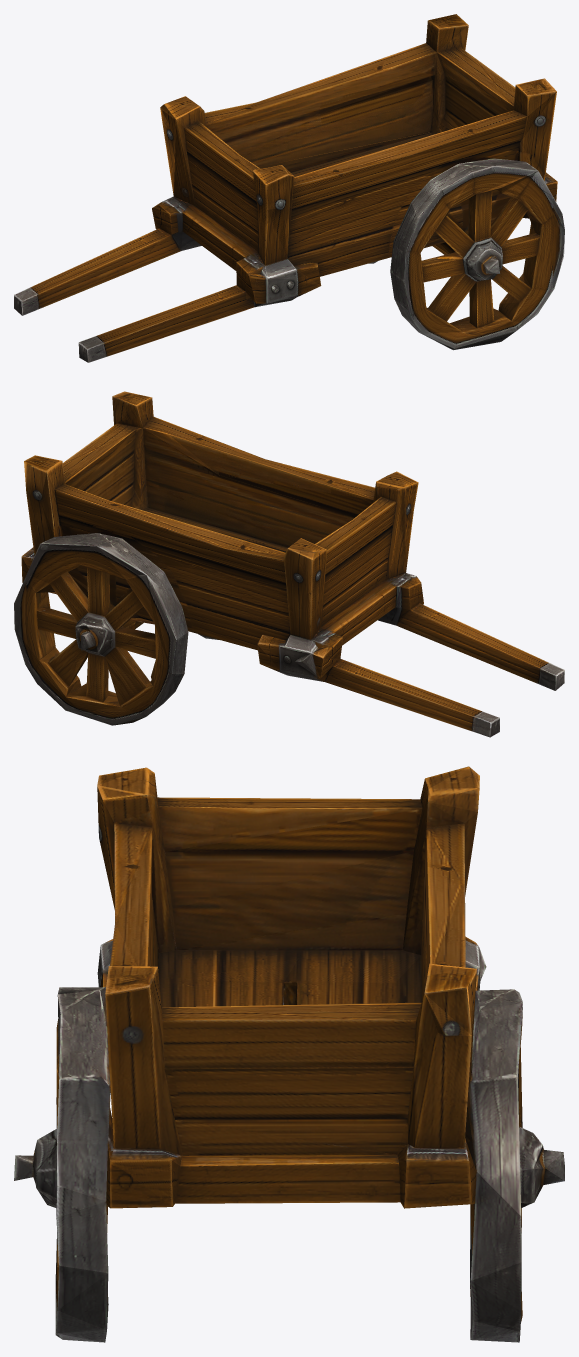
Rendered from Meshy_AI_Rustic_Wooden_Cart_0725023453_texture.fbx.
3 renders of one model, top to bottom at view 1: azimuth 30°, elevation 25°; view 2: azimuth 150°, elevation 25°; view 3: azimuth 270°, elevation 25°, orthographic. The views are drawn at different scales.
Visible parts, largest first — view 1: mesh_node; view 2: mesh_node; view 3: mesh_node.
Boxes of the visible parts, left/top/right/bottom form: mesh_node: left=14, top=14, right=564, bottom=362; mesh_node: left=14, top=391, right=564, bottom=737; mesh_node: left=14, top=766, right=564, bottom=1342.
Size of the model in its own units: 189 by 91.2 by 110.
Materials: 1 (1 with a texture image).
